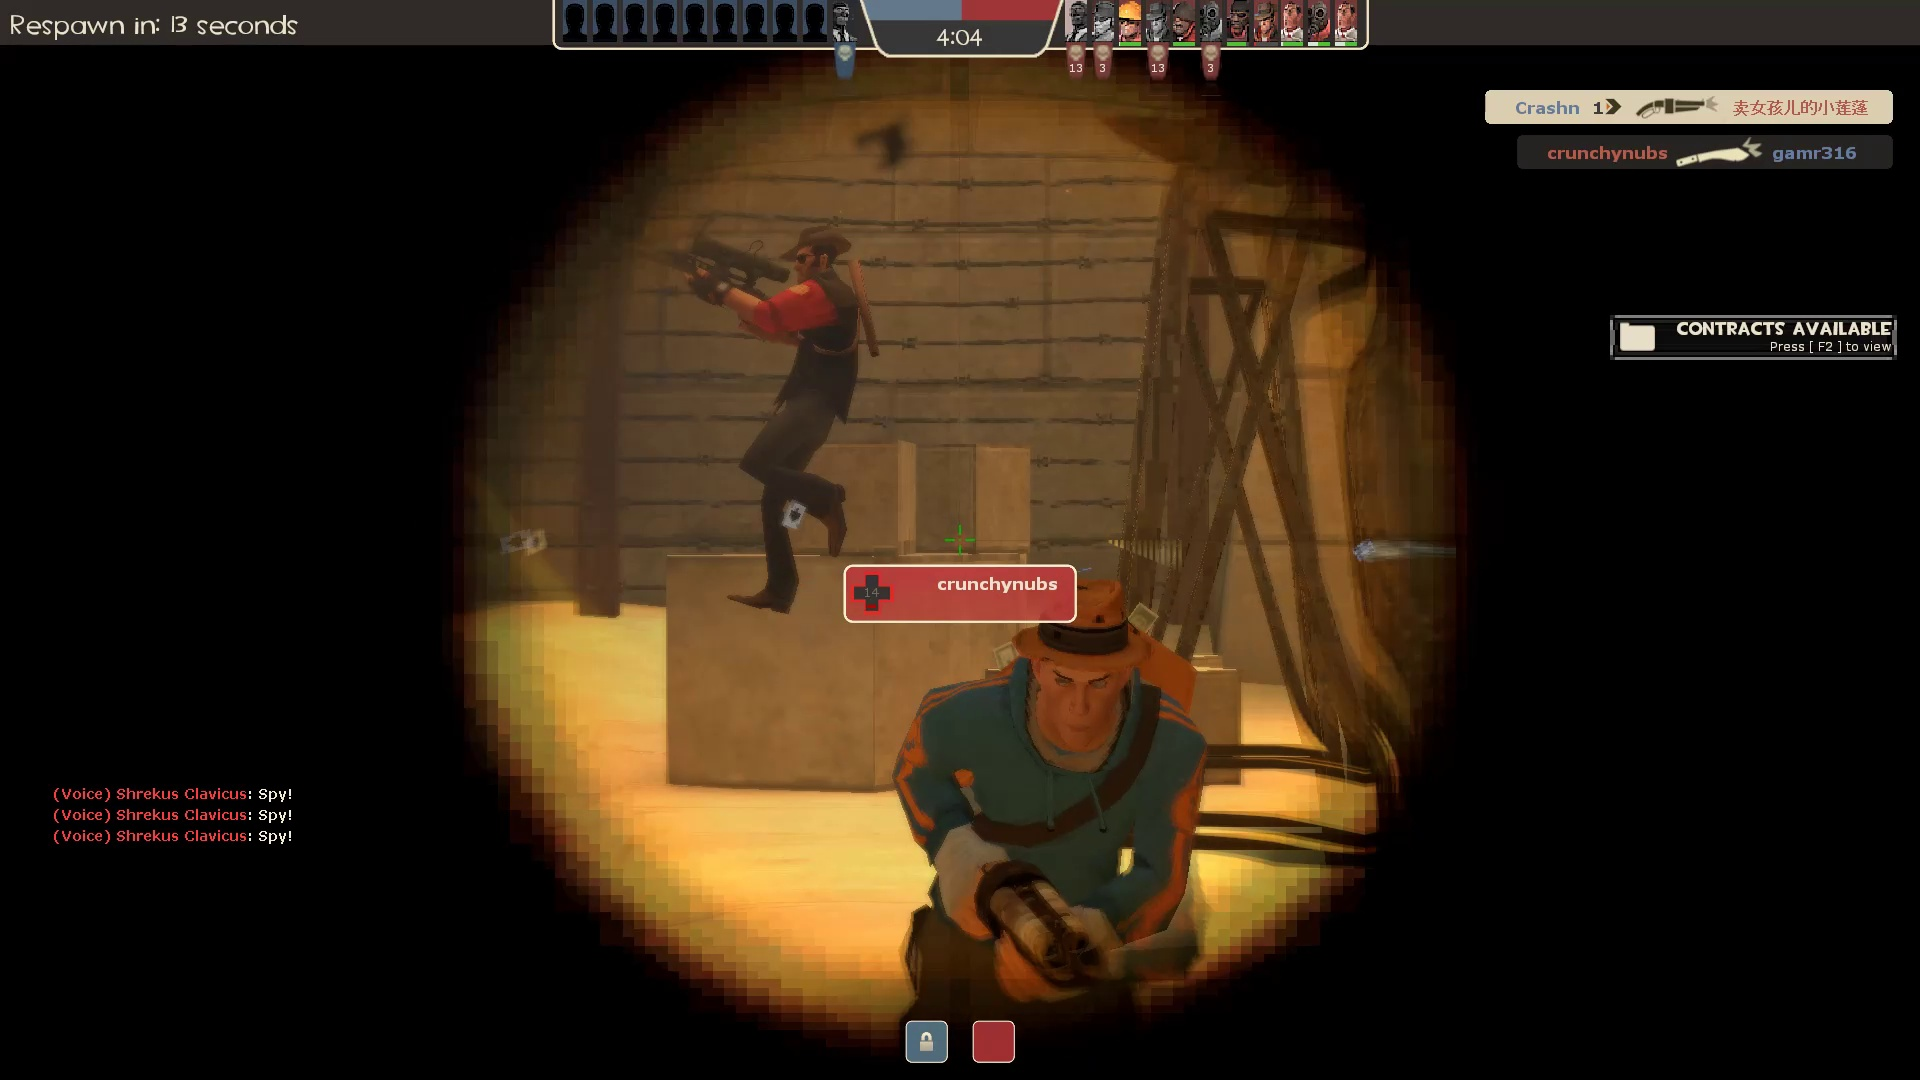blu_scout: (877, 574, 1222, 1080)
red_sniper: (564, 175, 887, 640)
